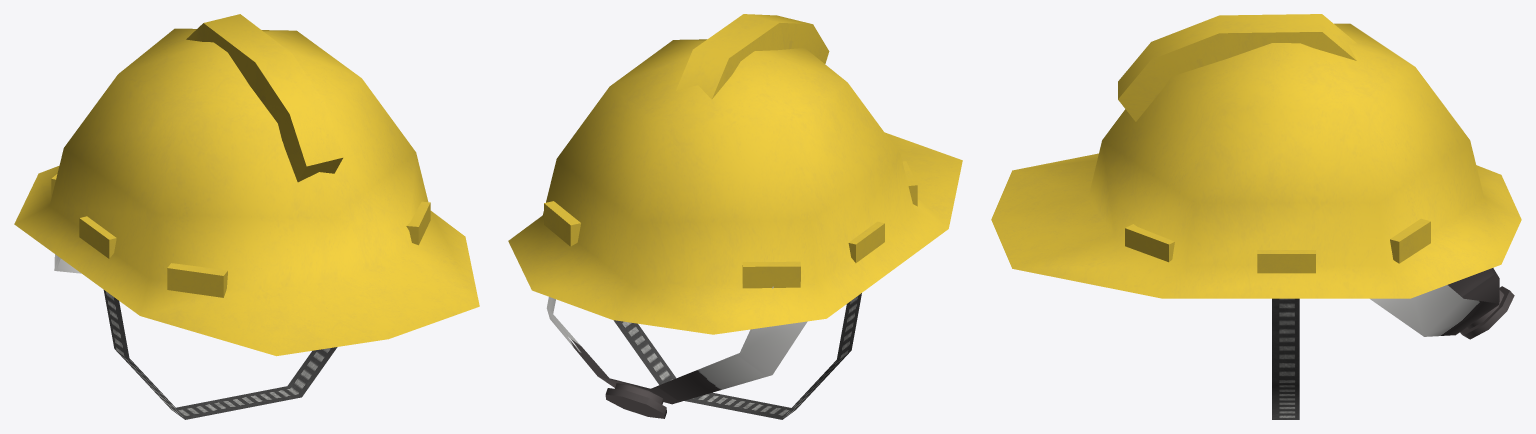
The model's file is anquan.FBX.
3 views of the same model, side by side, from view 1: azimuth 30°, elevation 25°; view 2: azimuth 150°, elevation 25°; view 3: azimuth 270°, elevation 25° (orthographic). The views are drawn at different scales.
Visible parts, largest first — view 1: YF_Model_anquan; view 2: YF_Model_anquan; view 3: YF_Model_anquan.
Boxes of the visible parts, bbox=[...] form: YF_Model_anquan: bbox=[14, 14, 479, 419]; YF_Model_anquan: bbox=[508, 14, 962, 419]; YF_Model_anquan: bbox=[991, 14, 1521, 419].
Bounding box in the file's own units: 47.37 × 51.86 × 67.29.
Materials: 1 (1 with a texture image).
